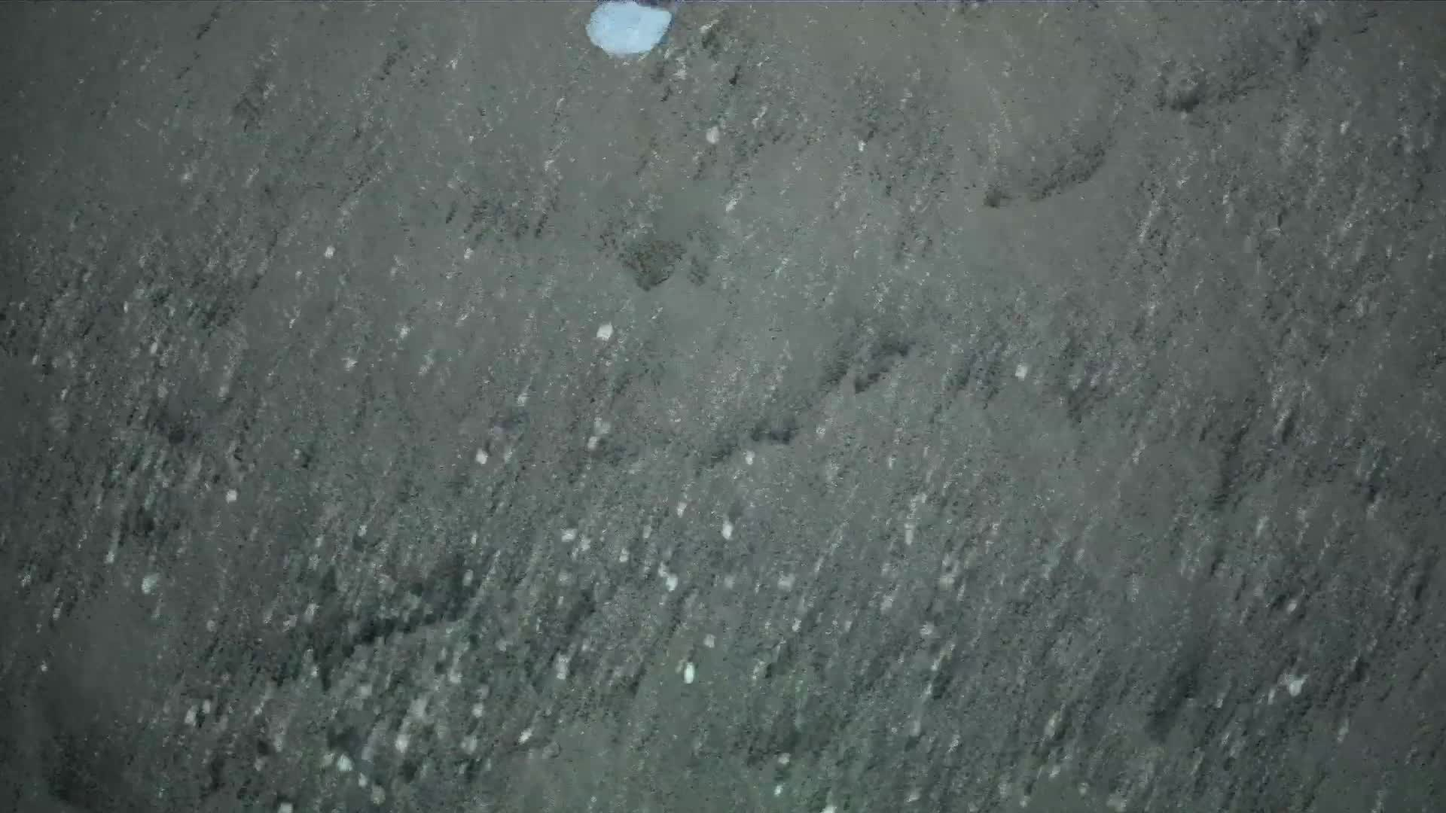Target: (583, 0, 677, 64)
